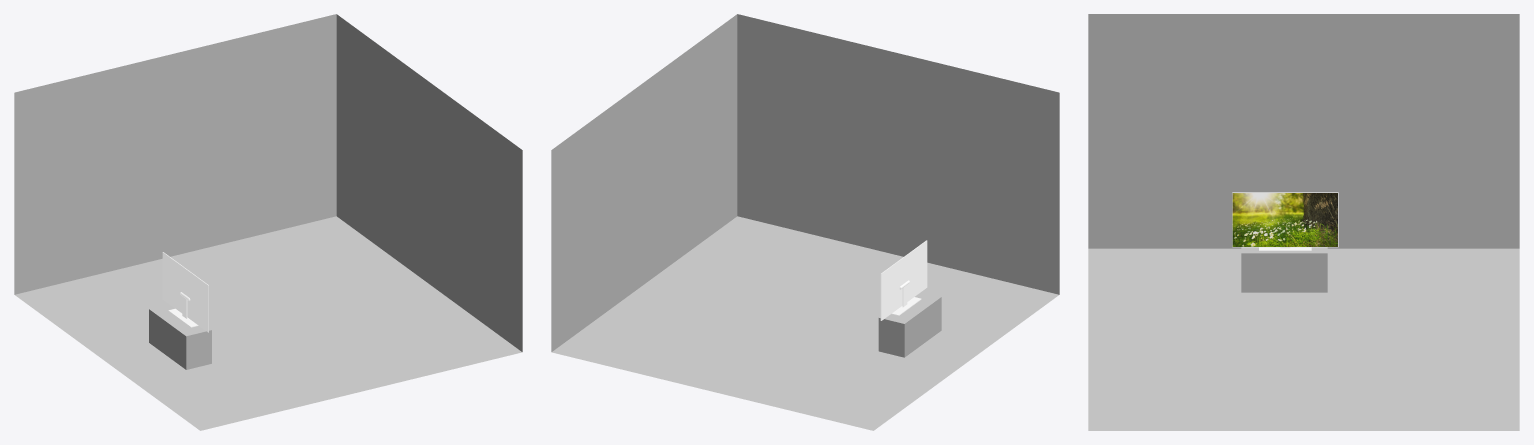
Rendered from television.glb.
3 views of the same model, side by side, from view 1: azimuth 30°, elevation 25°; view 2: azimuth 150°, elevation 25°; view 3: azimuth 270°, elevation 25° (orthographic). The views are drawn at different scales.
Parts seen in each view (by area): view 1: Cube, Cube.001, Plane; view 2: Cube, Cube.001, Plane; view 3: Cube, Plane, Cube.001.
Part boxes in pixels (x1,y1,x2,y2): Cube: (14, 14, 522, 430); Cube.001: (149, 304, 211, 369); Plane: (162, 252, 208, 332); Cube: (551, 14, 1059, 430); Cube.001: (878, 292, 941, 357); Plane: (880, 240, 927, 320); Cube: (1088, 14, 1519, 430); Plane: (1232, 192, 1338, 250); Cube.001: (1241, 247, 1327, 292).
Bounding box in the file's own units: 500 × 300 × 500.
1 material, 1 textured.
